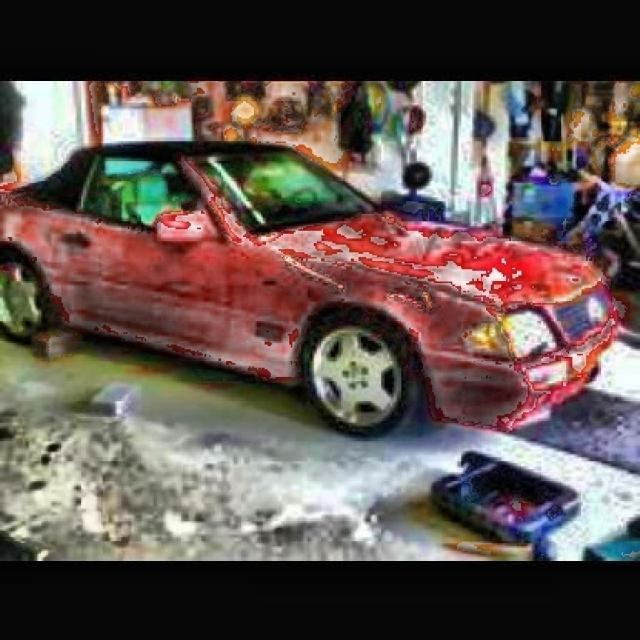maroon: (0, 140, 620, 432)
